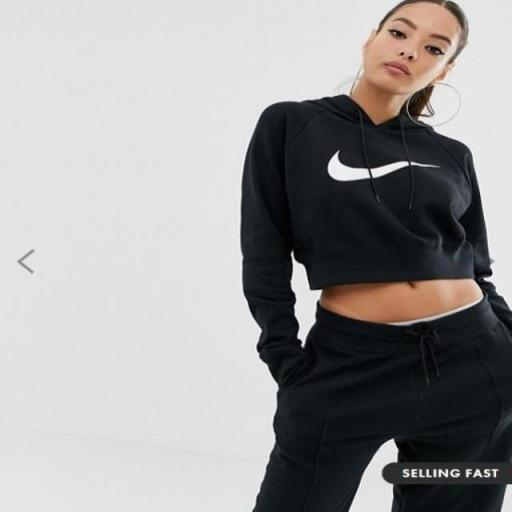Nike: (320, 145, 446, 189)
